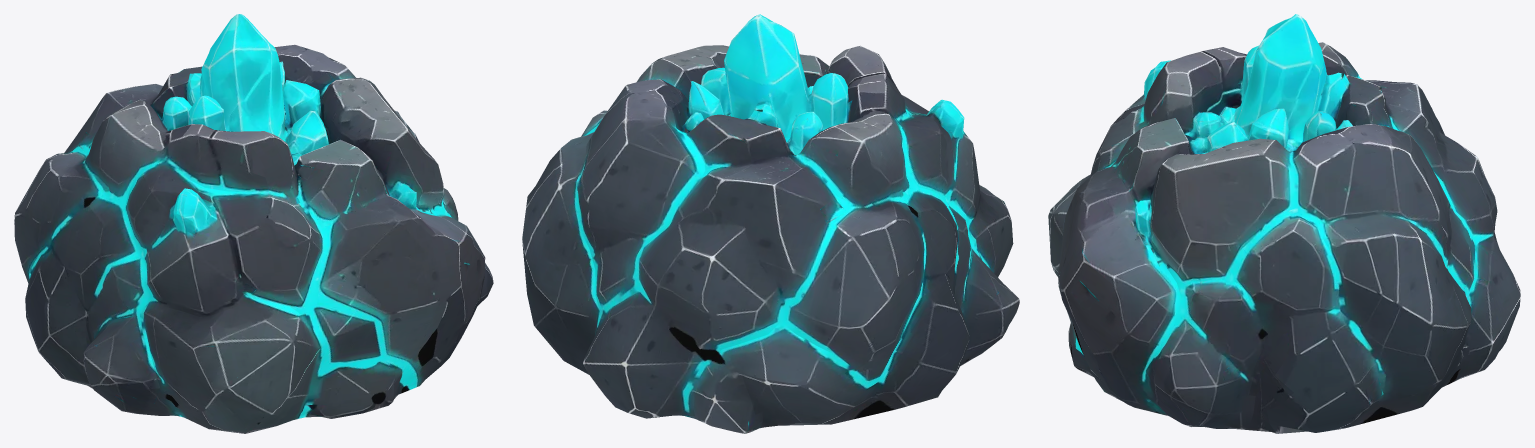
The model's file is rock.glb.
The picture shows the model from 3 angles, left to right: view 1: azimuth 30°, elevation 25°; view 2: azimuth 150°, elevation 25°; view 3: azimuth 270°, elevation 25°; orthographic projection. The views are drawn at different scales.
Parts seen in each view (by area): view 1: Mesh0; view 2: Mesh0; view 3: Mesh0.
Part boxes in pixels (x1=…): Mesh0: x1=14, y1=14, x2=493, y2=433; Mesh0: x1=522, y1=14, x2=1019, y2=433; Mesh0: x1=1048, y1=14, x2=1520, y2=433.
Size of the model in its own units: 1.89 by 1.48 by 1.89.
1 material, 1 textured.
